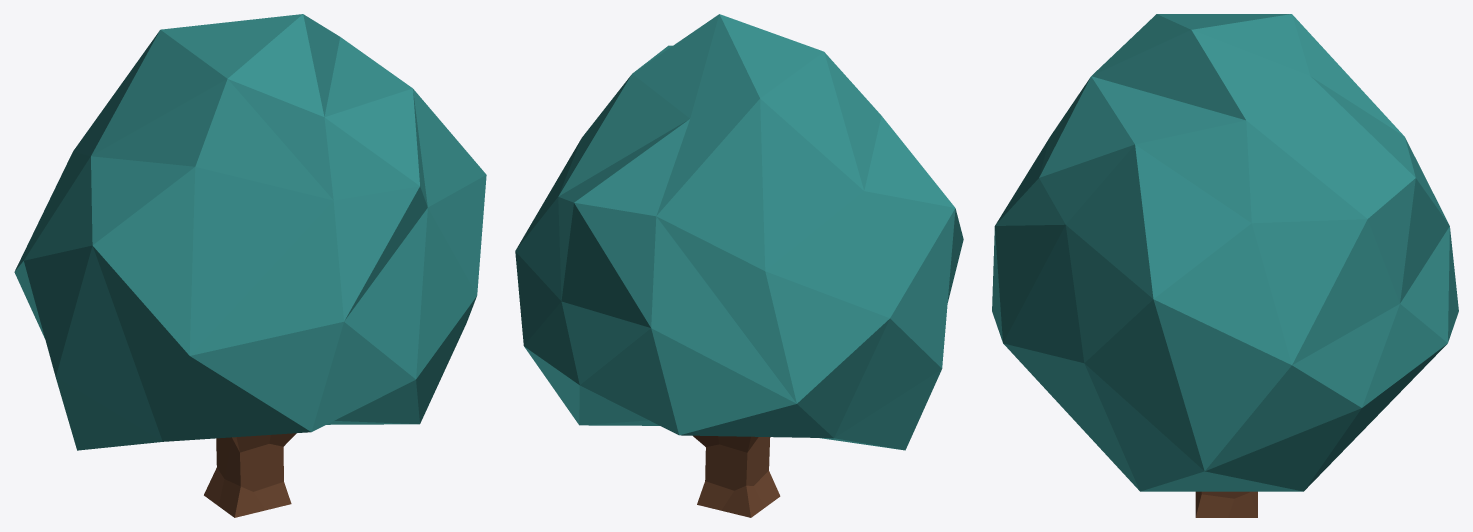
File: Tree_15_Blue.fbx
3 renders of one model, left to right at view 1: azimuth 30°, elevation 25°; view 2: azimuth 150°, elevation 25°; view 3: azimuth 270°, elevation 25°, orthographic. The views are drawn at different scales.
Visible parts, largest first — view 1: Tree_15_Blue_Part_1, Tree_15_Blue_Part_2; view 2: Tree_15_Blue_Part_1, Tree_15_Blue_Part_2; view 3: Tree_15_Blue_Part_1, Tree_15_Blue_Part_2.
Part boxes in pixels (box(x1,y1,x2,y2)): Tree_15_Blue_Part_1: box(14, 14, 486, 450); Tree_15_Blue_Part_2: box(204, 433, 296, 517); Tree_15_Blue_Part_1: box(515, 14, 963, 450); Tree_15_Blue_Part_2: box(693, 435, 780, 517); Tree_15_Blue_Part_1: box(992, 14, 1458, 491); Tree_15_Blue_Part_2: box(1195, 491, 1257, 517).
Bounding box in the file's own units: 691 × 786 × 675.
